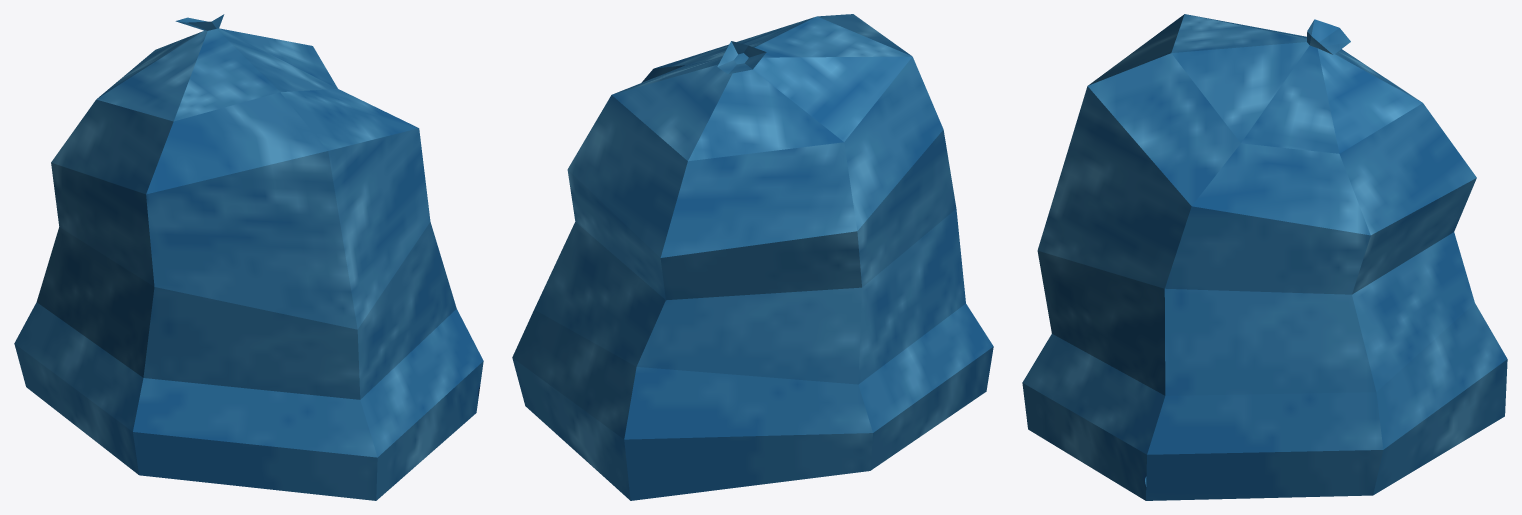
Rendered from Urban_Trashbag1Blue_Model.fbx.
3 views of the same model, side by side, from view 1: azimuth 30°, elevation 25°; view 2: azimuth 150°, elevation 25°; view 3: azimuth 270°, elevation 25° (orthographic). The views are drawn at different scales.
Visible parts, largest first — view 1: Urban_Trashbag1Blue_Mesh; view 2: Urban_Trashbag1Blue_Mesh; view 3: Urban_Trashbag1Blue_Mesh.
Boxes of the visible parts, <box> form: Urban_Trashbag1Blue_Mesh: <box>14,14,483,500</box>; Urban_Trashbag1Blue_Mesh: <box>512,14,993,500</box>; Urban_Trashbag1Blue_Mesh: <box>1022,14,1507,500</box>.
Size of the model in its own units: 0.7709 by 0.8094 by 0.9171.
